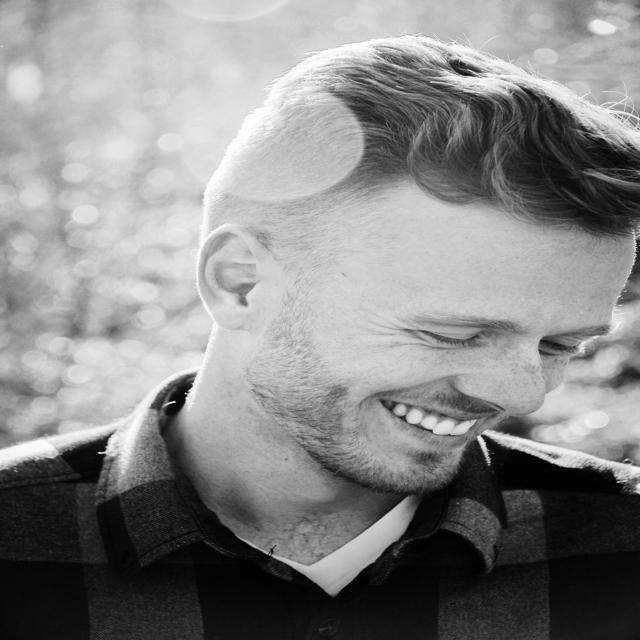Happiness: (280, 188, 638, 498)
